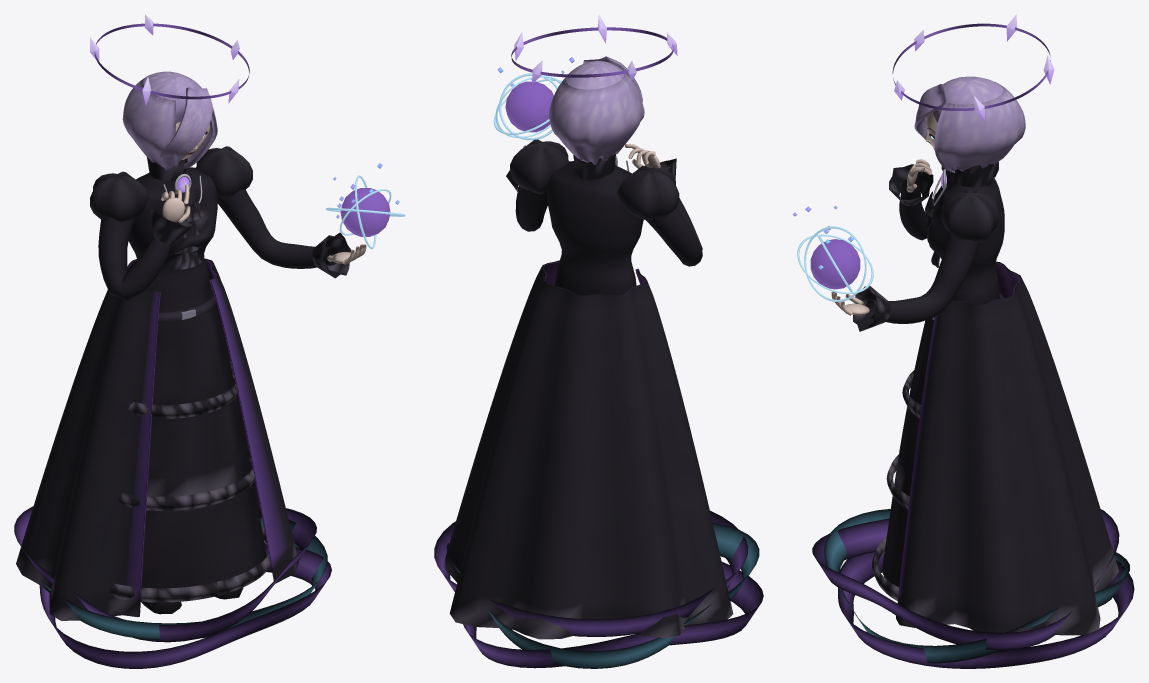
Rendered from psion.glb.
The picture shows the model from 3 angles, left to right: view 1: azimuth 30°, elevation 25°; view 2: azimuth 150°, elevation 25°; view 3: azimuth 270°, elevation 25°; orthographic projection. The views are drawn at different scales.
Parts seen in each view (by area): view 1: psion-body, psion-fx, psion-glow; view 2: psion-body, psion-fx, psion-glow; view 3: psion-body, psion-fx, psion-glow.
Part boxes in pixels (<box>): psion-body: <box>16,71,366,620</box>; psion-fx: <box>14,23,390,668</box>; psion-glow: <box>90,14,405,249</box>; psion-body: <box>445,56,733,639</box>; psion-fx: <box>434,27,763,668</box>; psion-glow: <box>493,14,677,161</box>; psion-body: <box>831,76,1118,642</box>; psion-fx: <box>810,23,1134,668</box>; psion-glow: <box>792,14,1054,302</box>.
Bounding box in the file's own units: 0.6499 × 1.21 × 0.6462.
5 materials, 1 textured.
